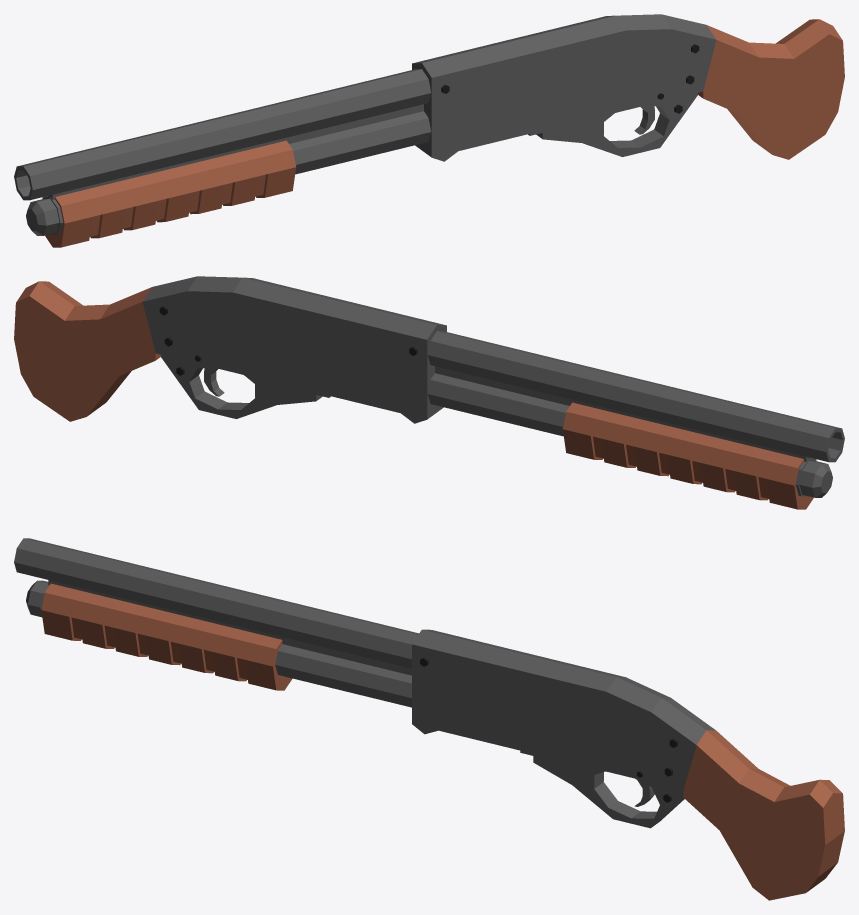
File: sawedoff.fbx
3 renders of one model, top to bottom at view 1: azimuth 30°, elevation 25°; view 2: azimuth 150°, elevation 25°; view 3: azimuth 330°, elevation 25°, orthographic.
Parts seen in each view (by area): view 1: Plane; view 2: Plane; view 3: Plane.
Part boxes in pixels (x1,y1,x2,y2): Plane: (14,14,844,247); Plane: (14,276,844,509); Plane: (14,538,844,900).
Size of the model in its own units: 451 by 93.92 by 22.47.
1 material, 1 textured.
